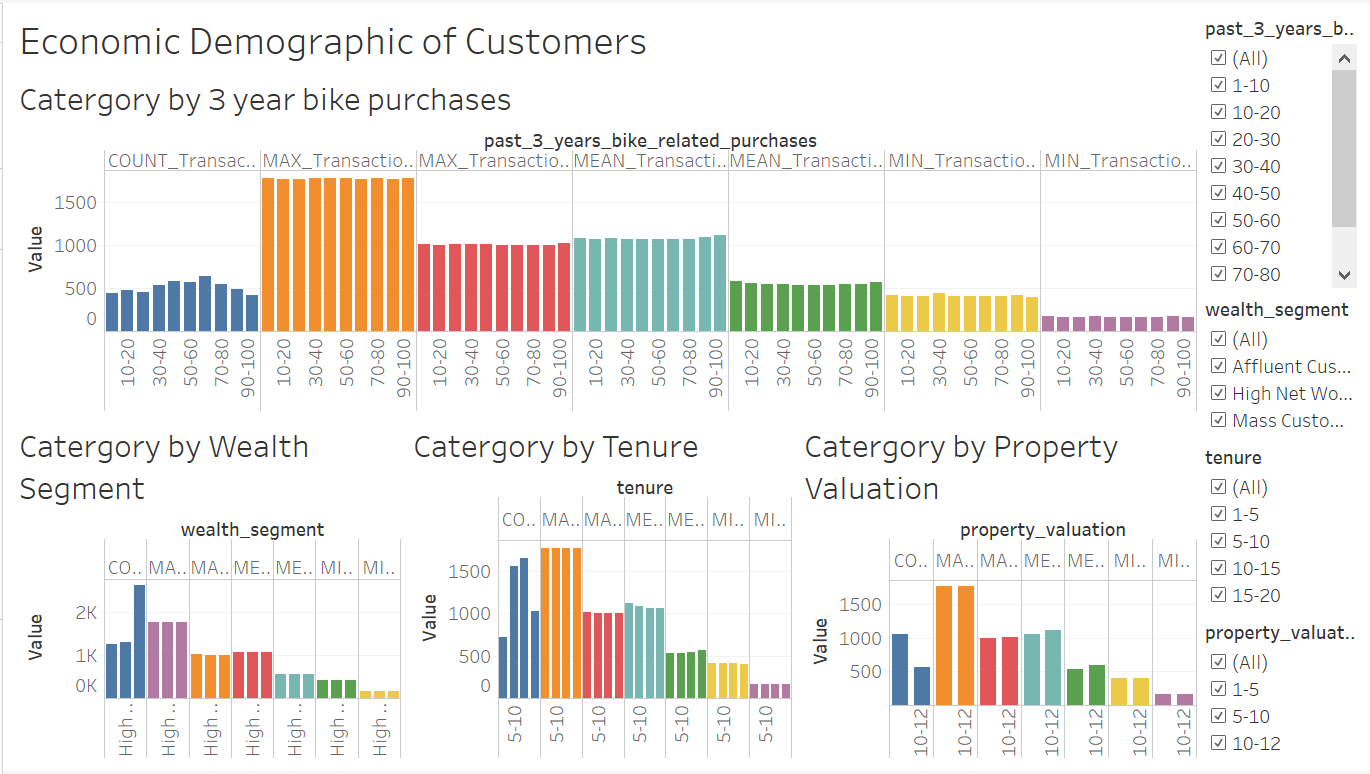

The page's visual inventory and layout, read from the dashboard file:
{"tool":"tableau","page":{"name":"Economic Dashboard","canvas":[1366,768],"ordinal":0},"visuals":[{"type":"worksheet","box":[0,0,1366,768]},{"type":"worksheet","param":"horz","box":[8,8,1350,752]},{"type":"worksheet","param":"vert","box":[8,8,1190,752]},{"type":"worksheet","box":[8,8,1190,58]},{"type":"worksheet","param":"vert","box":[1198,8,160,752]},{"type":"worksheet","title":"3 year bike","mark":"Automatic","cols":["past_3_years_bike_related_purchases"],"param":"[federated.0cu3qhh1l2ygif1frrfpl01nxtlh].[none:past_3_years_bike_related_purchas","box":[1198,8,160,281]},{"type":"worksheet","box":[8,66,1190,694]},{"type":"worksheet","title":"3 year bike","mark":"Automatic","cols":["past_3_years_bike_related_purchases"],"box":[8,66,1190,347]},{"type":"worksheet","title":"Wealth Segment","mark":"Automatic","cols":["wealth_segment"],"param":"[federated.09zuu8s0yvnubs1fsgvdh193hx4o].[none:wealth_segment:nk]","box":[1198,289,160,148]},{"type":"worksheet","param":"horz","box":[8,413,1190,347]},{"type":"worksheet","box":[8,413,1190,347]},{"type":"worksheet","title":"Wealth Segment","mark":"Automatic","cols":["wealth_segment"],"box":[8,413,394,347]},{"type":"worksheet","title":"Tenure","mark":"Automatic","cols":["tenure"],"box":[402,413,391.4,347]},{"type":"worksheet","title":"Property Valuation","mark":"Automatic","cols":["property_valuation"],"box":[793.4,413,404.6,347]},{"type":"worksheet","title":"Tenure","mark":"Automatic","cols":["tenure"],"param":"[federated.03dsp4v11cfgzm14hou7510epkik].[none:tenure:nk]","box":[1198,437,160,175]},{"type":"worksheet","title":"Property Valuation","mark":"Automatic","cols":["property_valuation"],"param":"[federated.0bo7od20bsnca91cyi6oj00o1iz7].[none:property_valuation:nk]","box":[1198,612,160,148]}]}

Visuals, with their boxes in screenshot pixels (x1, y1, x2, y2), scaled from the page's 1366x768 canvas onto the 1370x774 screenshot:
worksheet: <bbox>0, 0, 1369, 773</bbox>
worksheet: <bbox>8, 8, 1362, 766</bbox>
worksheet: <bbox>8, 8, 1202, 766</bbox>
worksheet: <bbox>8, 8, 1202, 67</bbox>
worksheet: <bbox>1202, 8, 1362, 766</bbox>
"3 year bike" worksheet: <bbox>1202, 8, 1362, 291</bbox>
worksheet: <bbox>8, 67, 1202, 766</bbox>
"3 year bike" worksheet: <bbox>8, 67, 1202, 416</bbox>
"Wealth Segment" worksheet: <bbox>1202, 291, 1362, 440</bbox>
worksheet: <bbox>8, 416, 1202, 766</bbox>
worksheet: <bbox>8, 416, 1202, 766</bbox>
"Wealth Segment" worksheet: <bbox>8, 416, 403, 766</bbox>
"Tenure" worksheet: <bbox>403, 416, 796, 766</bbox>
"Property Valuation" worksheet: <bbox>796, 416, 1202, 766</bbox>
"Tenure" worksheet: <bbox>1202, 440, 1362, 617</bbox>
"Property Valuation" worksheet: <bbox>1202, 617, 1362, 766</bbox>
